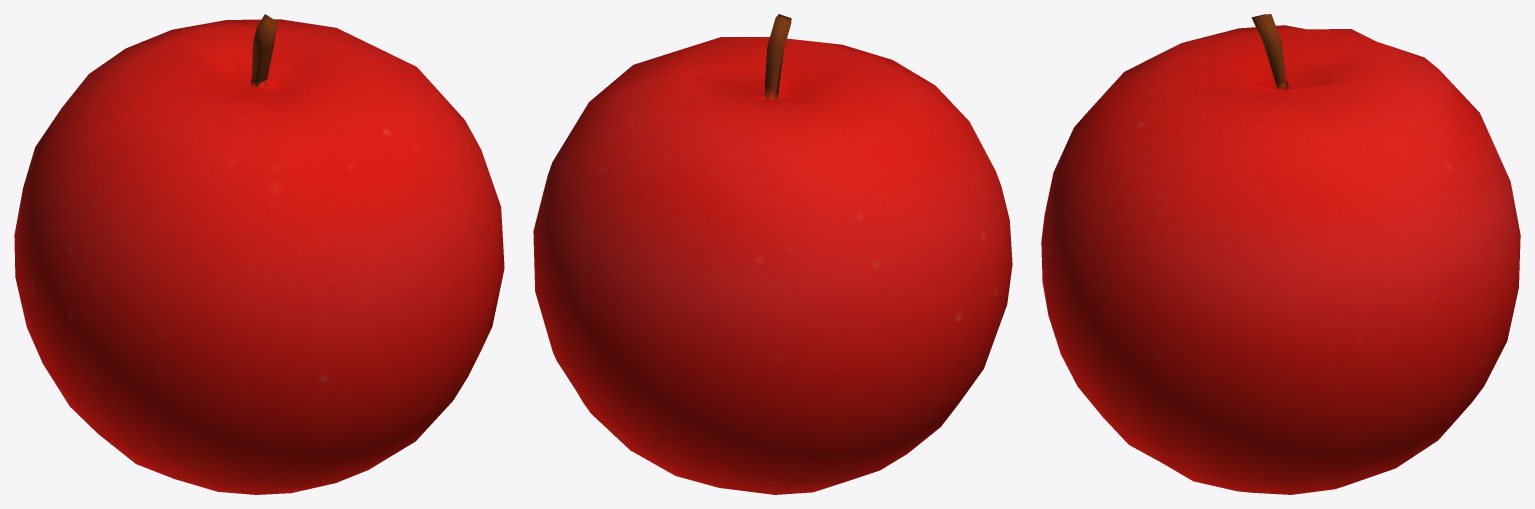
File: red-apple-model-300T.fbx
3 views of the same model, side by side, from view 1: azimuth 30°, elevation 25°; view 2: azimuth 150°, elevation 25°; view 3: azimuth 270°, elevation 25° (orthographic). The views are drawn at different scales.
Visible parts, largest first — view 1: tripo_node_9e94ada1; view 2: tripo_node_9e94ada1; view 3: tripo_node_9e94ada1.
Part boxes in pixels (x1=…): tripo_node_9e94ada1: x1=14, y1=14, x2=504, y2=494; tripo_node_9e94ada1: x1=533, y1=14, x2=1012, y2=494; tripo_node_9e94ada1: x1=1041, y1=14, x2=1520, y2=494.
Bounding box in the file's own units: 0.9825 × 0.9979 × 0.9645.
Materials: 1 (1 with a texture image).
